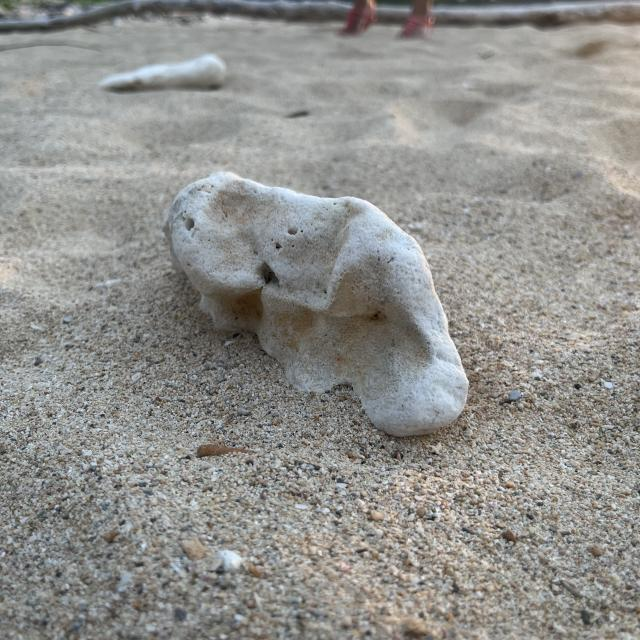rock: (162, 172, 496, 469)
